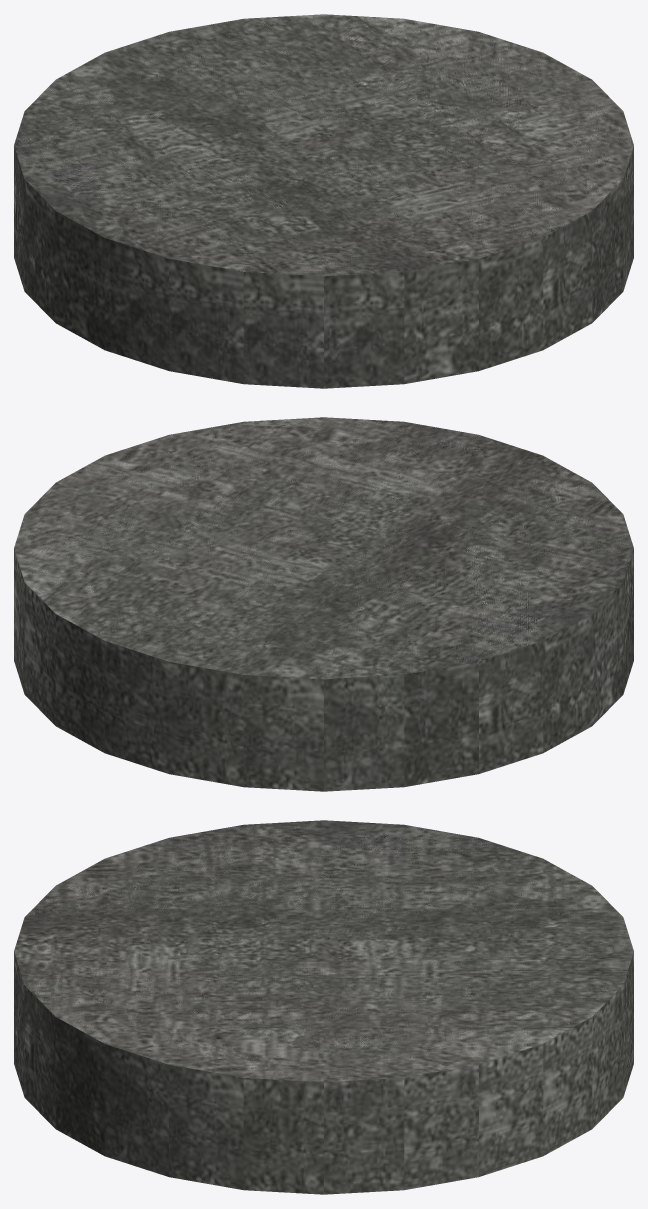
Rendered from circle_bronze.fbx.
The picture shows the model from 3 angles, top to bottom: view 1: azimuth 30°, elevation 25°; view 2: azimuth 150°, elevation 25°; view 3: azimuth 270°, elevation 25°; orthographic projection.
Visible parts, largest first — view 1: Model; view 2: Model; view 3: Model.
Boxes of the visible parts, x1,y1,x2,y2 form: Model: (14, 14, 633, 388); Model: (14, 417, 633, 791); Model: (14, 820, 633, 1194).
Bounding box in the file's own units: 5 × 1 × 5.
